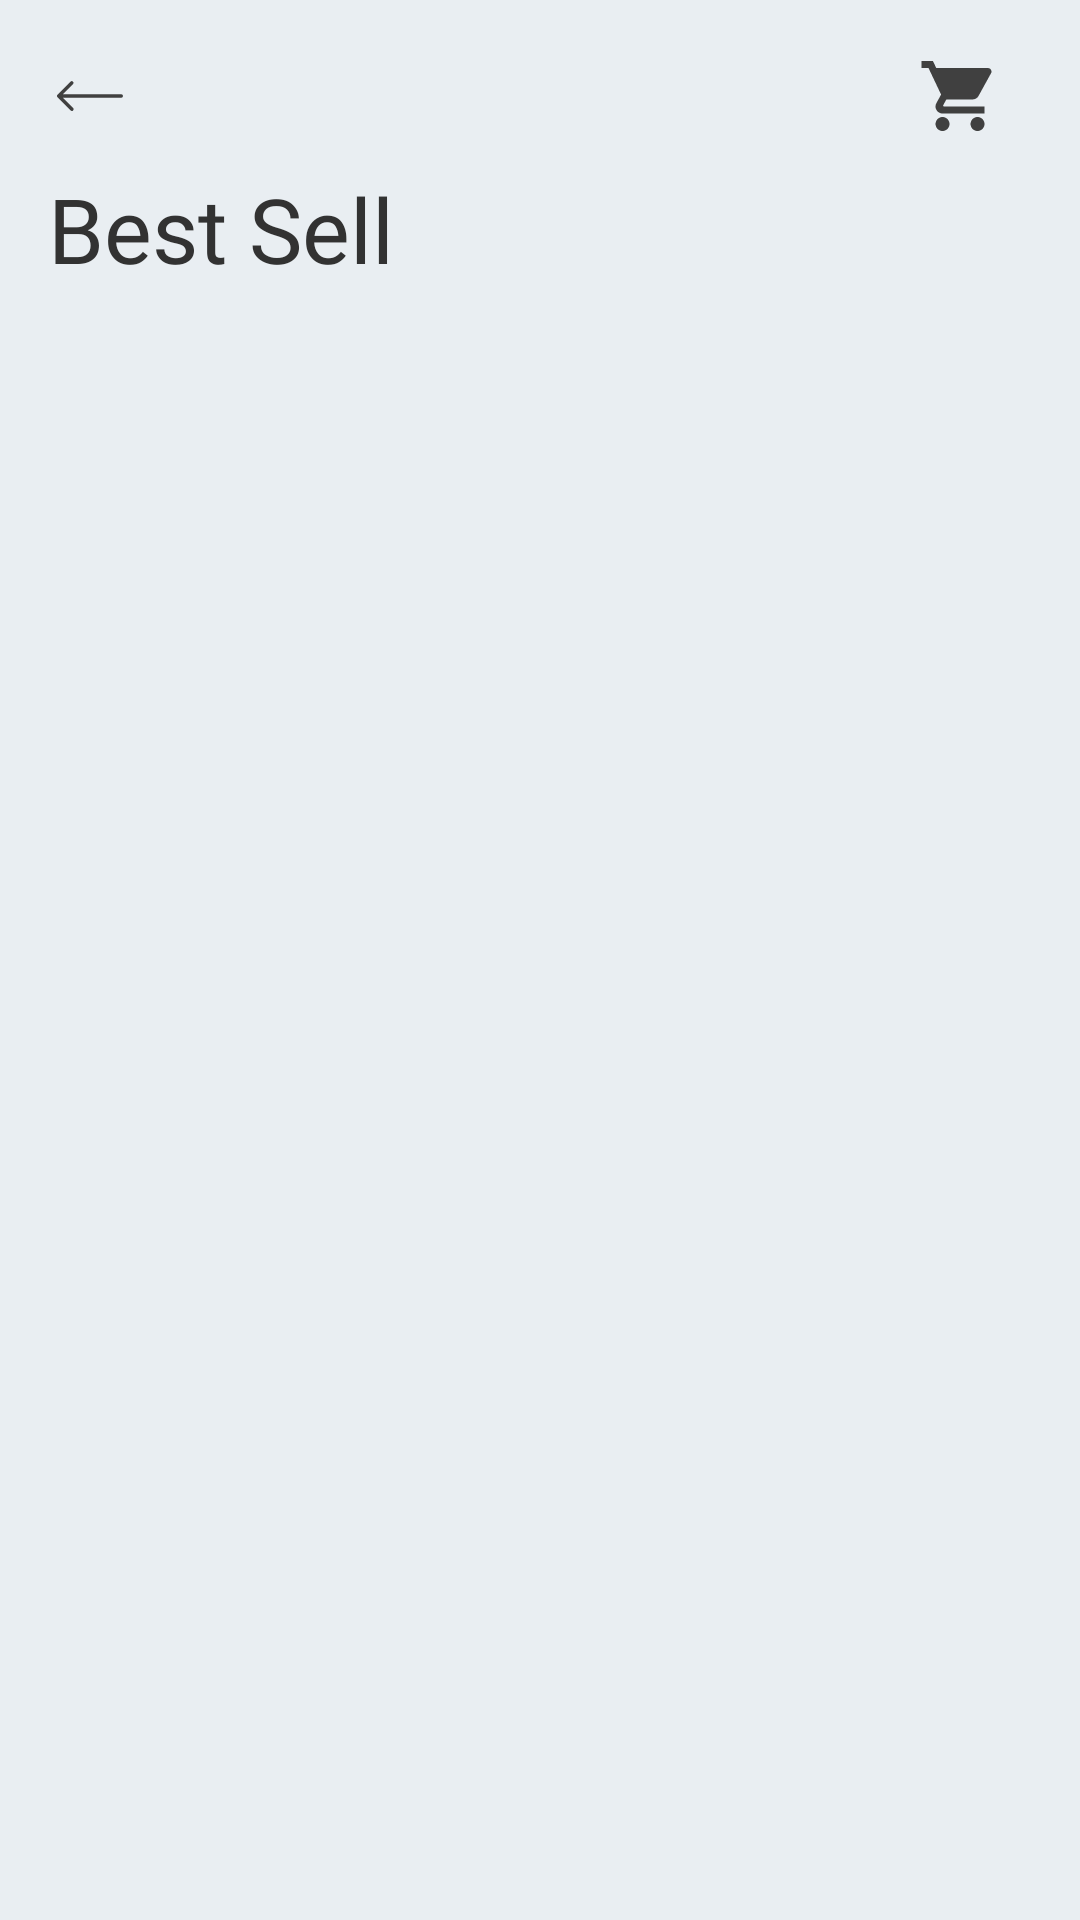

Locate icon controls on the screen. Image size 1080w x 1920h, boxes as [left=x1, top=y1, right=x2, bottom=y2].
back: [left=57, top=81, right=123, bottom=111]
shopping cart: [left=921, top=61, right=992, bottom=131]
